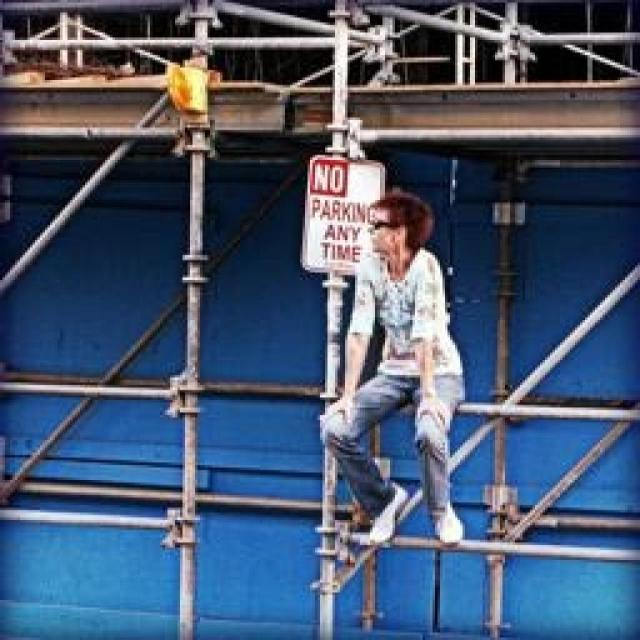Helmet: (342, 242, 490, 440), (350, 164, 442, 282)
